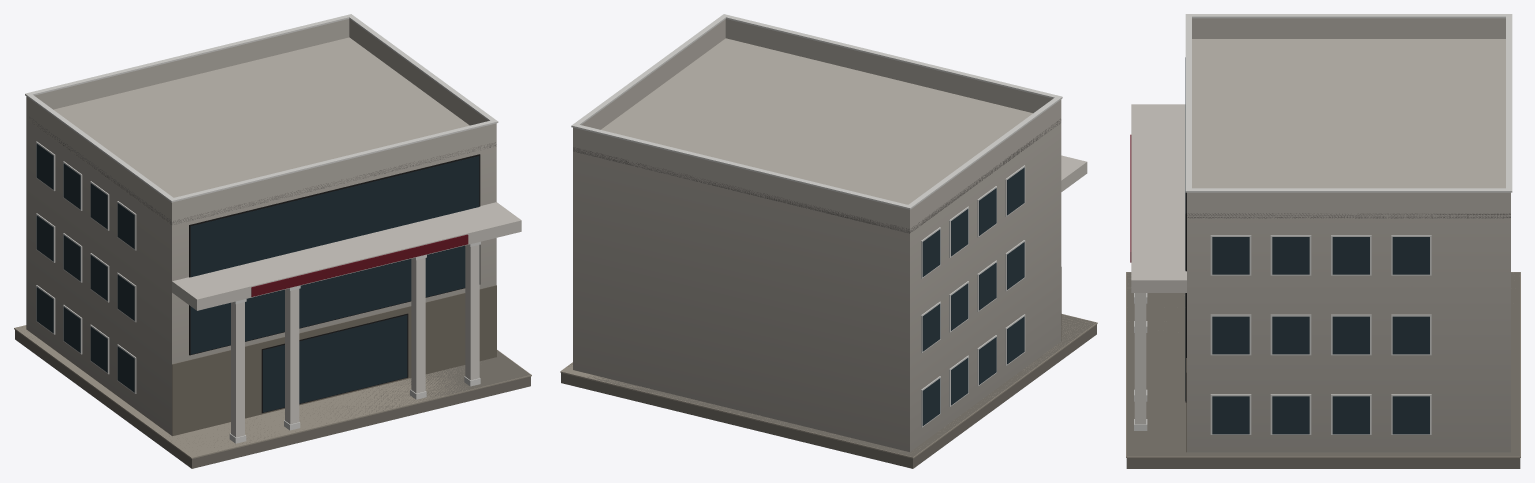
Rendered from ns_bank_lod1.glb.
3 views of the same model, side by side, from view 1: azimuth 30°, elevation 25°; view 2: azimuth 150°, elevation 25°; view 3: azimuth 270°, elevation 25° (orthographic). The views are drawn at different scales.
Parts seen in each view (by area): view 1: ns_bank_lod1; view 2: ns_bank_lod1; view 3: ns_bank_lod1.
Boxes of the visible parts, left/top/right/bottom form: ns_bank_lod1: left=14, top=14, right=531, bottom=468; ns_bank_lod1: left=560, top=14, right=1097, bottom=468; ns_bank_lod1: left=1126, top=14, right=1520, bottom=468.
Bounding box in the file's own units: 18.86 × 13.08 × 17.06.
